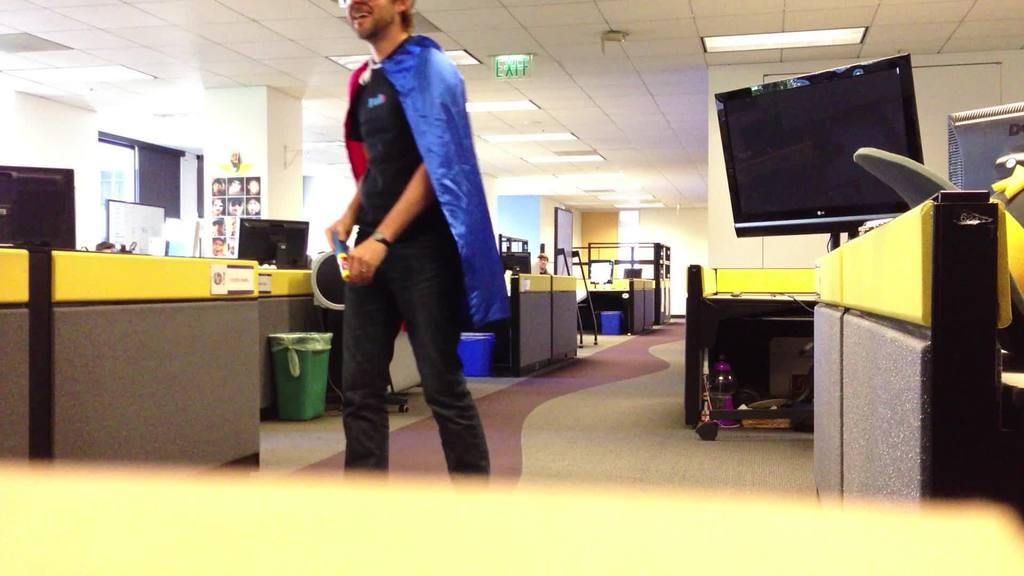Computer-monitor: (710, 57, 931, 248), (938, 104, 1023, 211), (0, 157, 83, 251), (114, 186, 174, 254), (239, 215, 312, 266)
